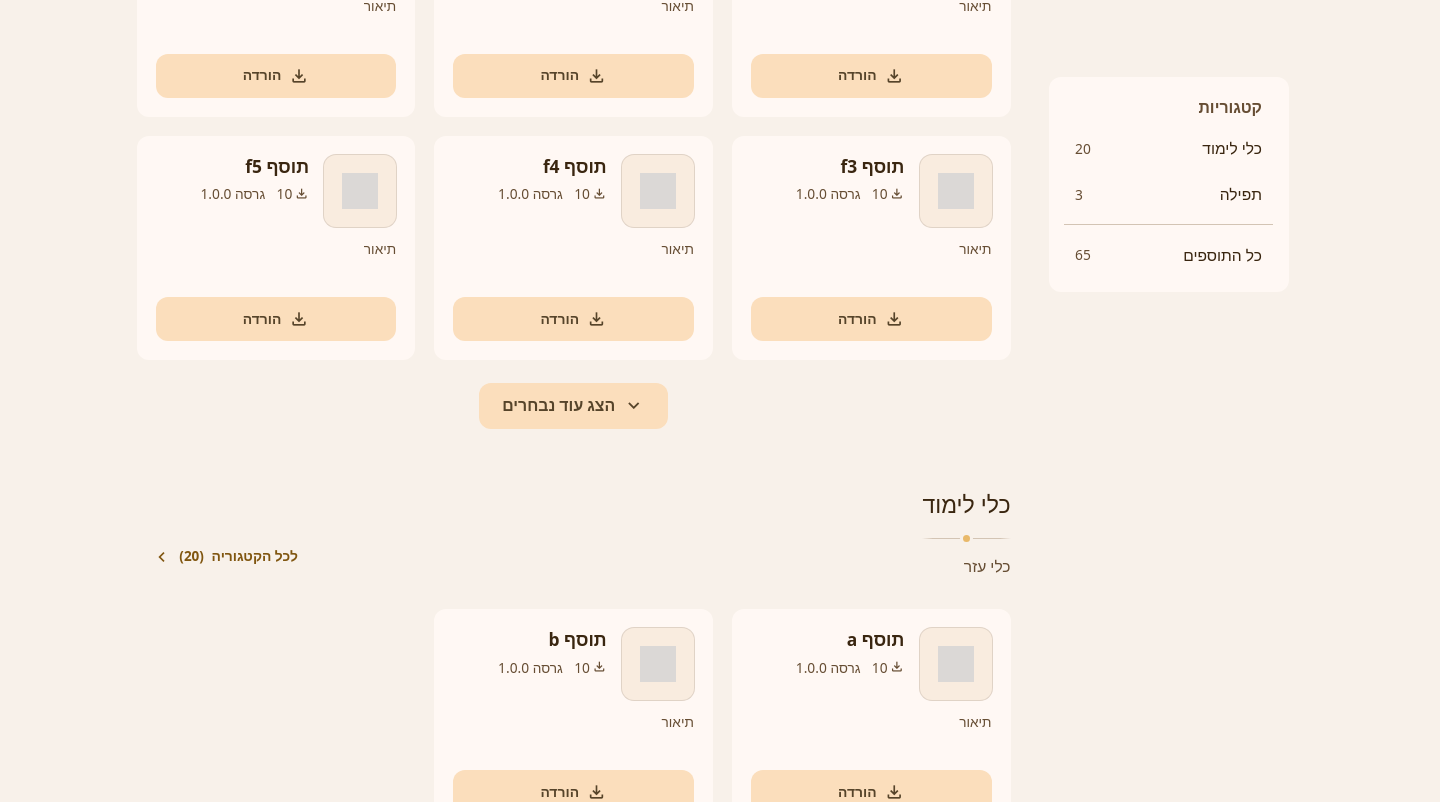
Test: PluginsStoreHomeClient › "הצג עוד נבחרים" חושף את כל הנבחרים ונעלם
(page scrolled)
Click the button "הצג עוד נבחרים".
click(574, 406)  # box [479,383,668,429]
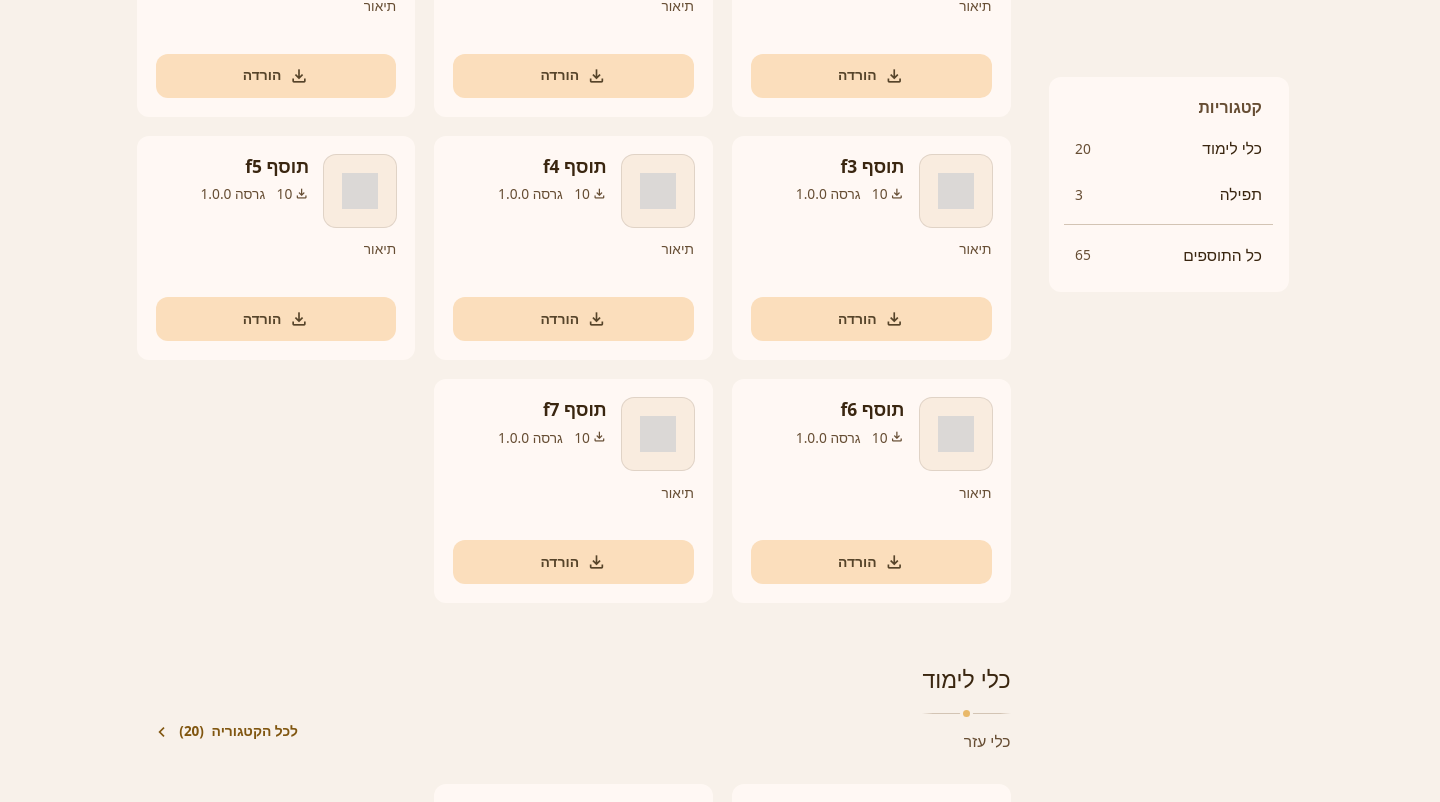
Expected: the button "הצג עוד נבחרים" is gone
